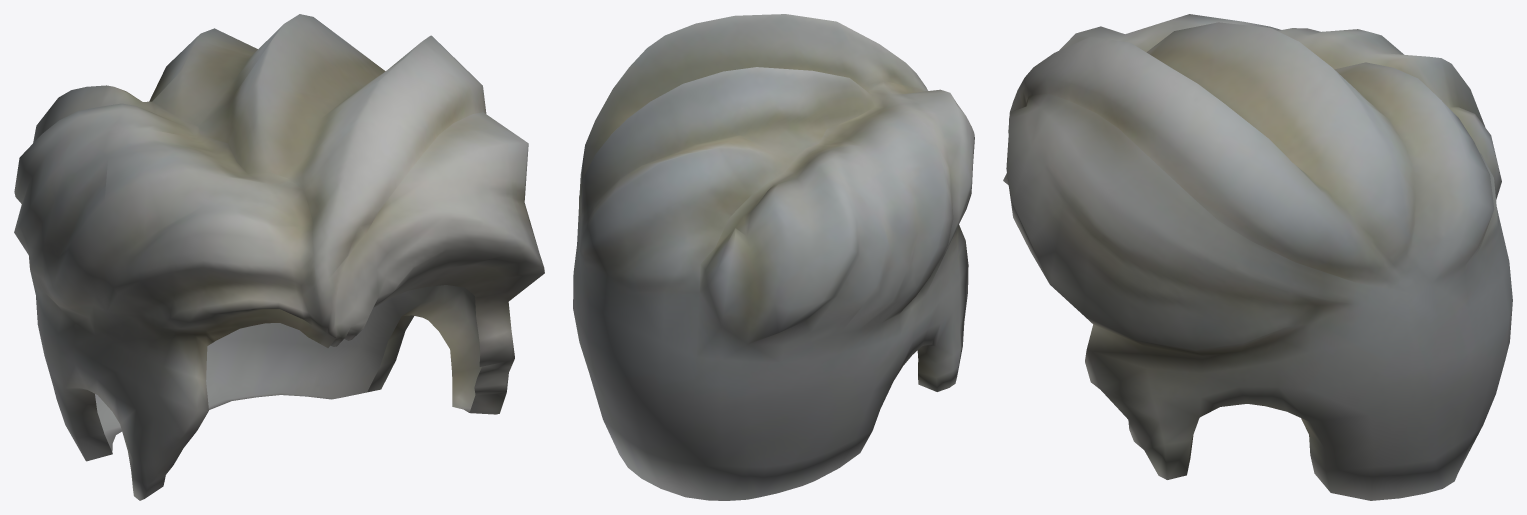
File: operator-hair-v2.glb
3 renders of one model, left to right at view 1: azimuth 30°, elevation 25°; view 2: azimuth 150°, elevation 25°; view 3: azimuth 270°, elevation 25°, orthographic. The views are drawn at different scales.
Parts seen in each view (by area): view 1: Hair_SimpleParted; view 2: Hair_SimpleParted; view 3: Hair_SimpleParted.
Part boxes in pixels (<box>): Hair_SimpleParted: <box>14,14,544,500</box>; Hair_SimpleParted: <box>573,14,974,500</box>; Hair_SimpleParted: <box>1003,14,1512,500</box>.
Size of the model in its own units: 0.1754 by 0.1792 by 0.1869.
Materials: 1 (1 with a texture image).
